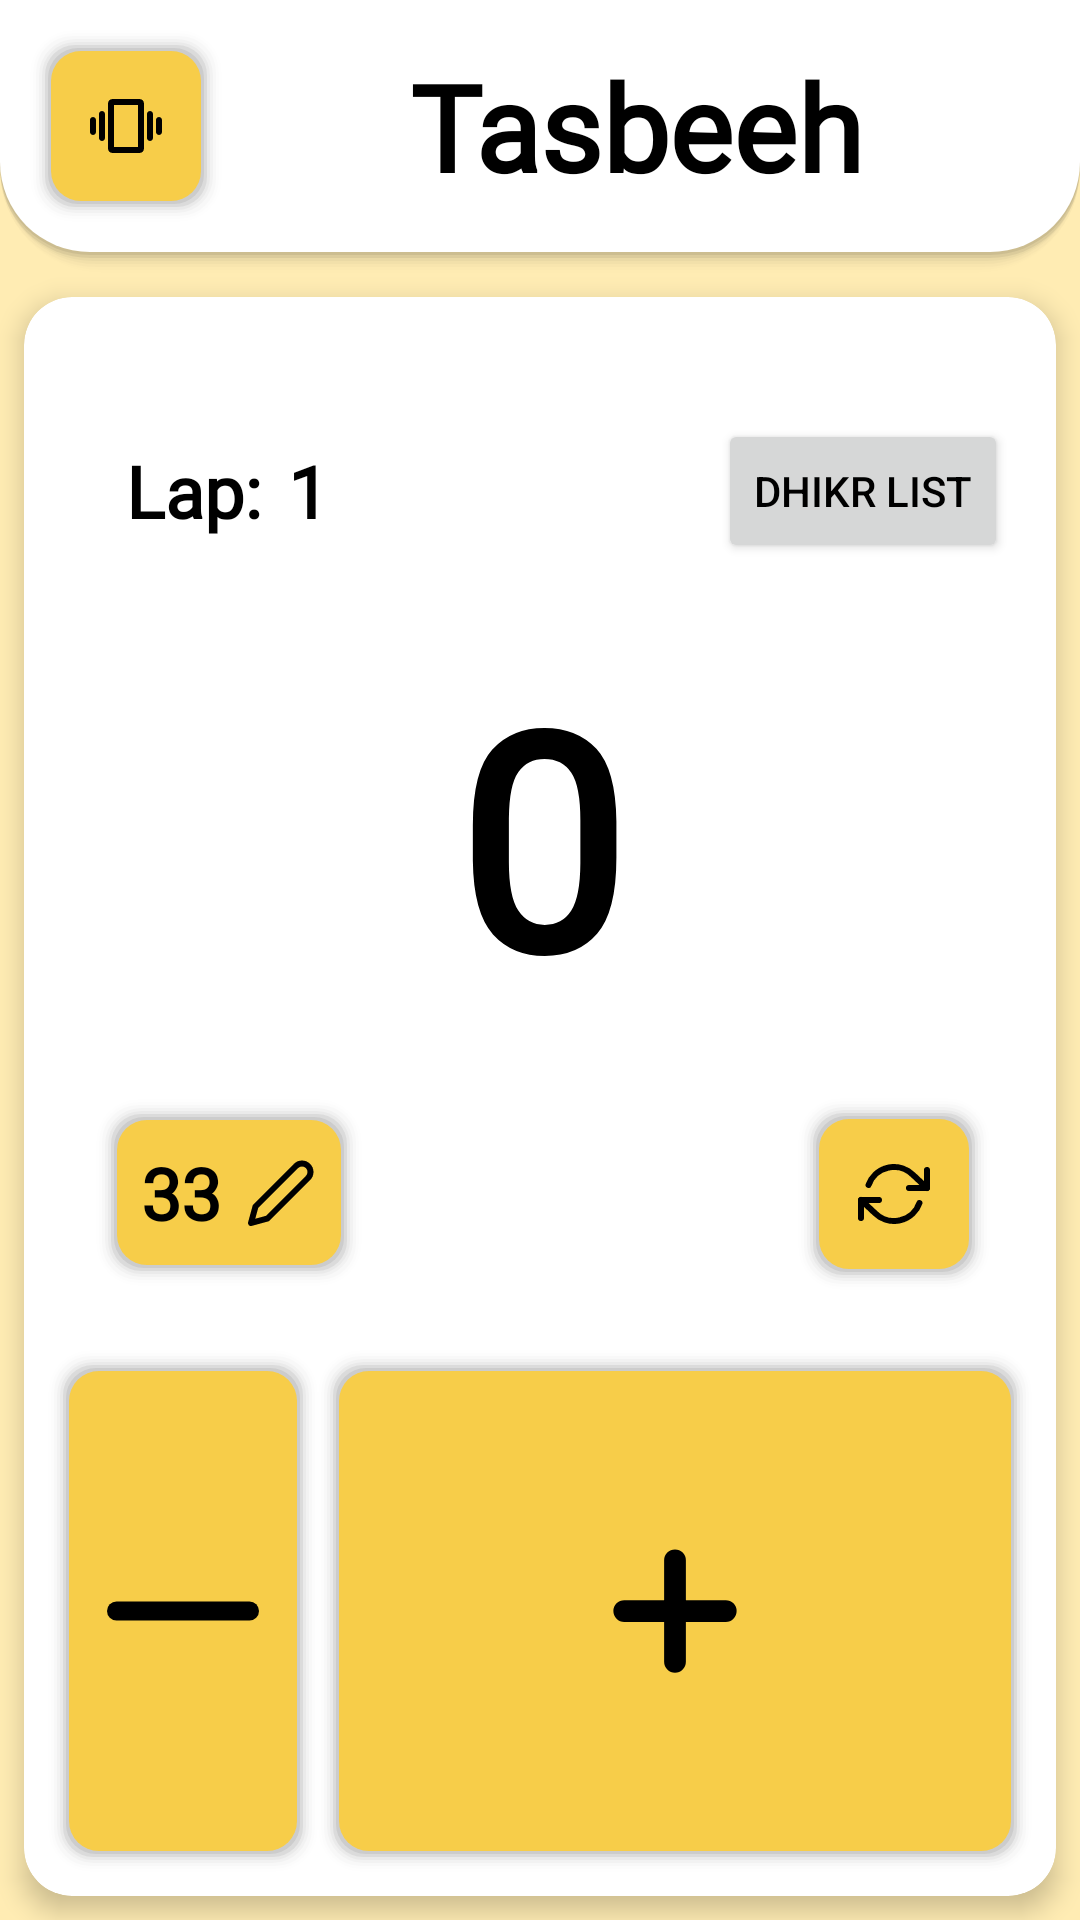

Icon click points for this 1080w x 1920h phone screenshot, format (x=x, y=y):
editor: (x=281, y=1193)
reset: (x=894, y=1194)
vibration: (x=126, y=126)
